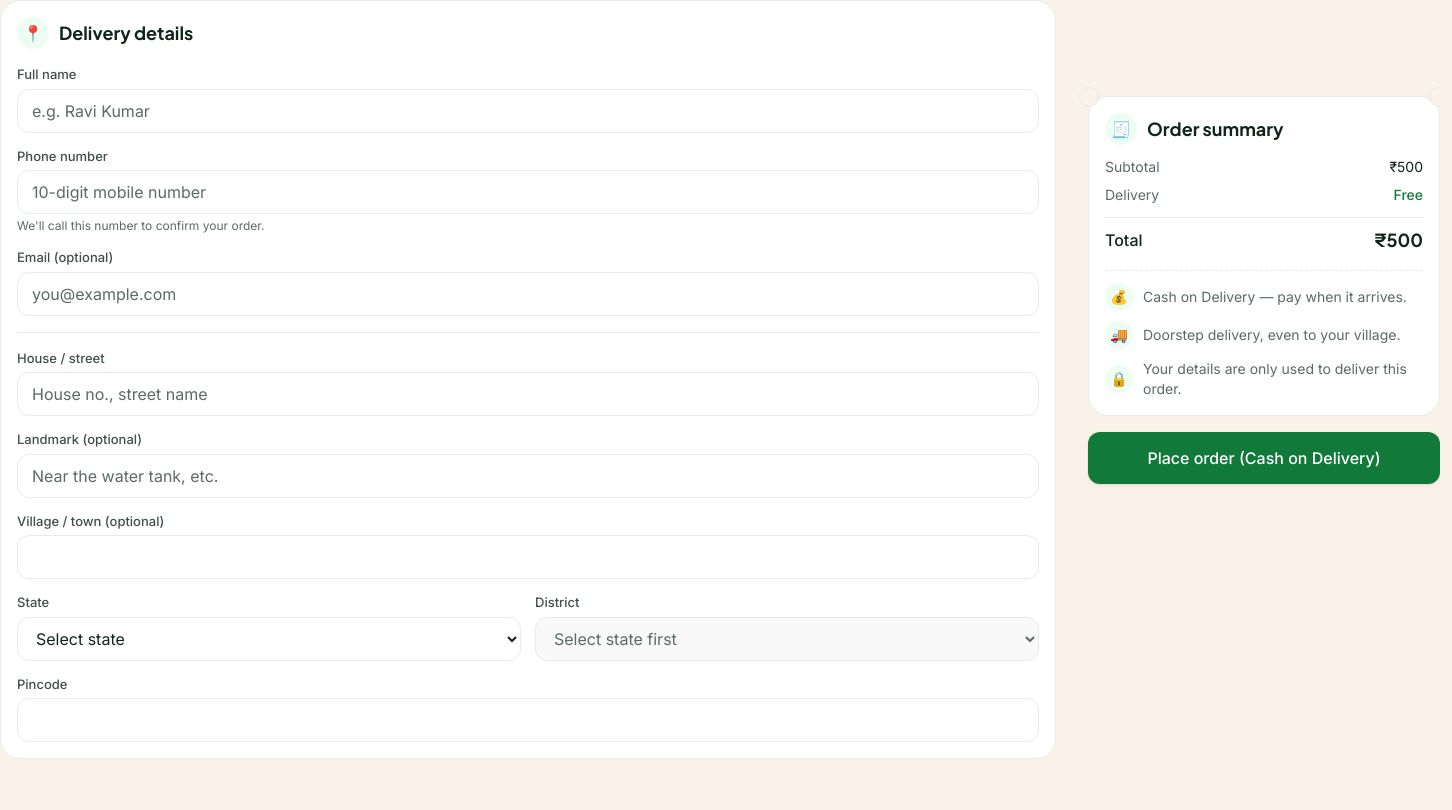
Test case: CheckoutForm › flags Full name left empty on blur
The width and height of the screenshot is (1452, 810).
Click the field labelled "Full name".
click(528, 110)  # box [17, 88, 1039, 132]
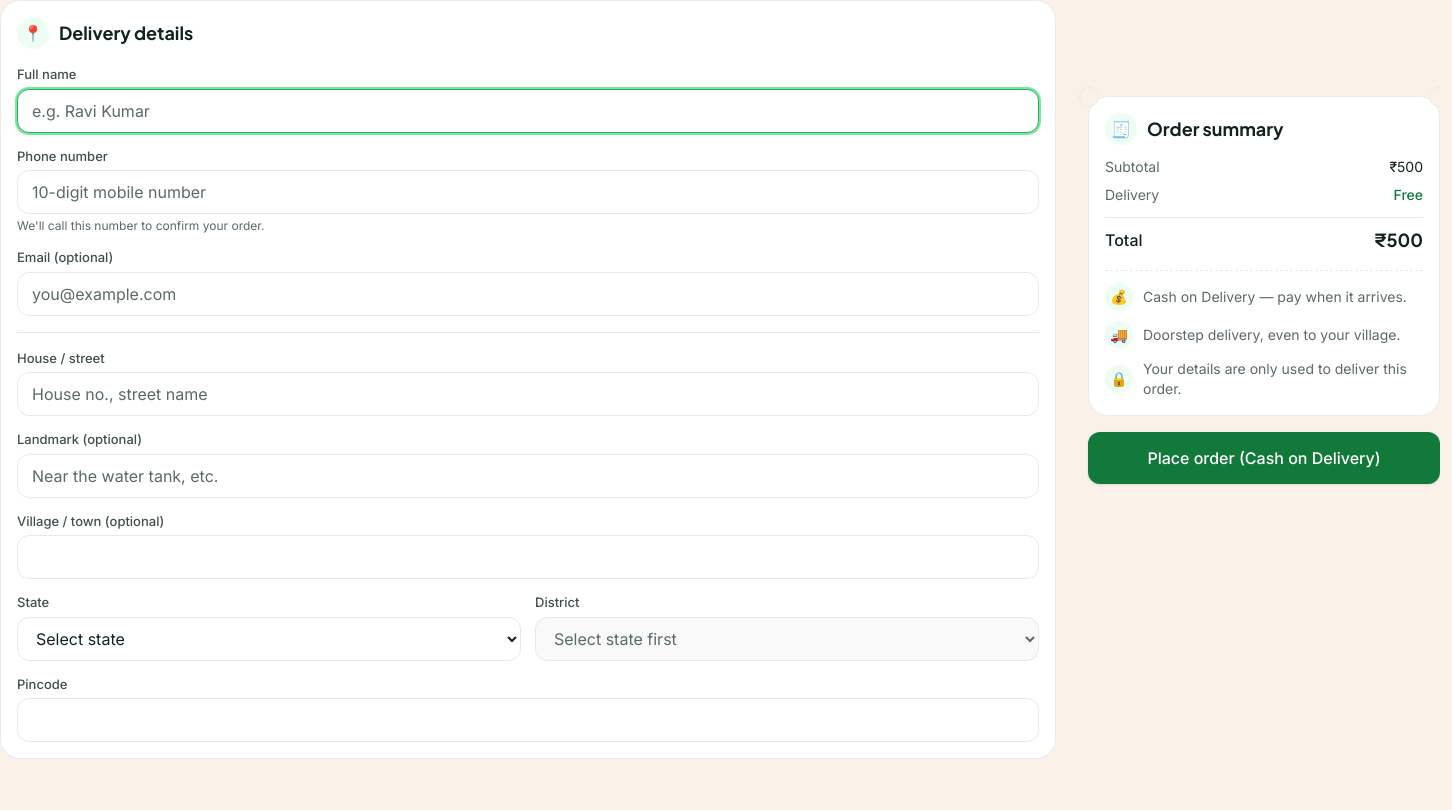
Press Tab
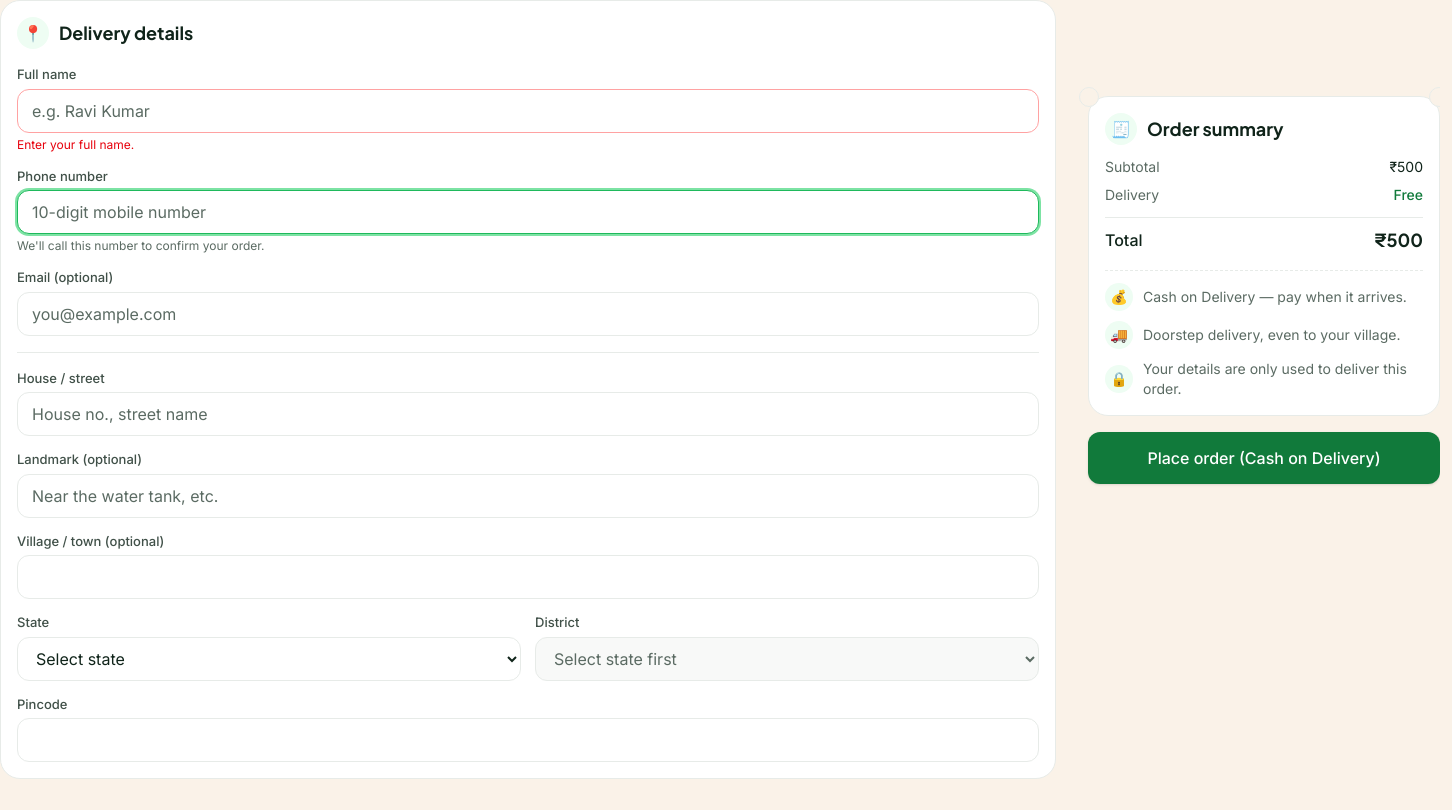
expect the text "Enter your full name." is shown: met, box [17, 136, 134, 152]
